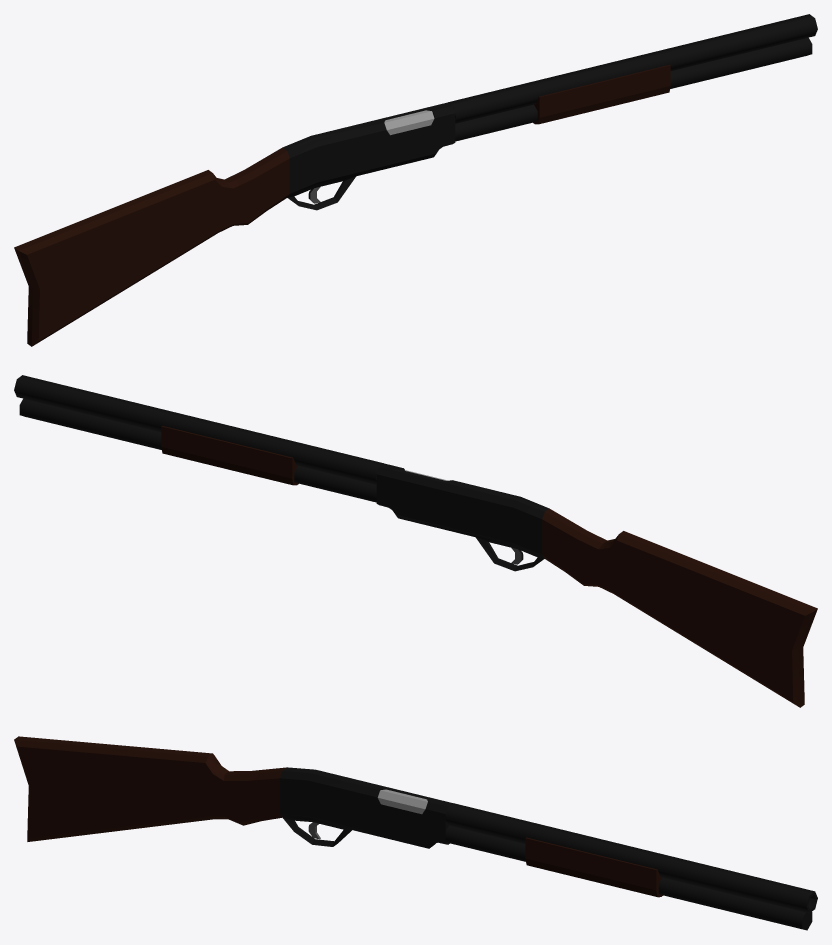
Rendered from Shotgun.FBX.
The picture shows the model from 3 angles, top to bottom: view 1: azimuth 30°, elevation 25°; view 2: azimuth 150°, elevation 25°; view 3: azimuth 330°, elevation 25°; orthographic projection.
Visible parts, largest first — view 1: Box001, Receiver, Barrel, Magazine tube, Forend, Chamber; view 2: Box001, Receiver, Barrel, Magazine tube, Forend; view 3: Box001, Receiver, Barrel, Magazine tube, Forend, Chamber.
Boxes of the visible parts, <box> form: Box001: <box>14,147,289,346</box>; Receiver: <box>282,102,455,210</box>; Barrel: <box>448,14,817,123</box>; Magazine tube: <box>455,37,812,141</box>; Forend: <box>533,65,670,124</box>; Chamber: <box>384,110,434,135</box>; Box001: <box>542,508,817,707</box>; Receiver: <box>376,463,549,571</box>; Barrel: <box>14,375,383,484</box>; Magazine tube: <box>19,398,376,502</box>; Forend: <box>161,426,298,485</box>; Box001: <box>14,736,286,841</box>; Receiver: <box>280,767,452,848</box>; Barrel: <box>445,803,817,913</box>; Magazine tube: <box>445,825,812,930</box>; Forend: <box>525,837,662,897</box>; Chamber: <box>377,789,427,814</box>.
Bounding box in the file's own units: 138 × 22.89 × 4.29.
